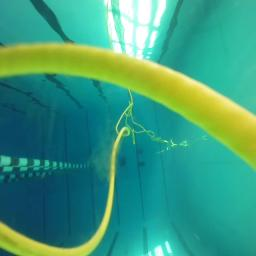Full: (118, 160, 127, 166), (138, 161, 146, 167)
